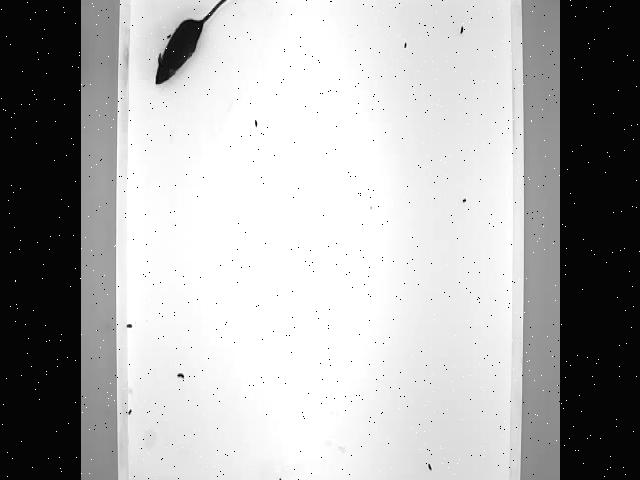Tikus: (150, 0, 265, 90)
